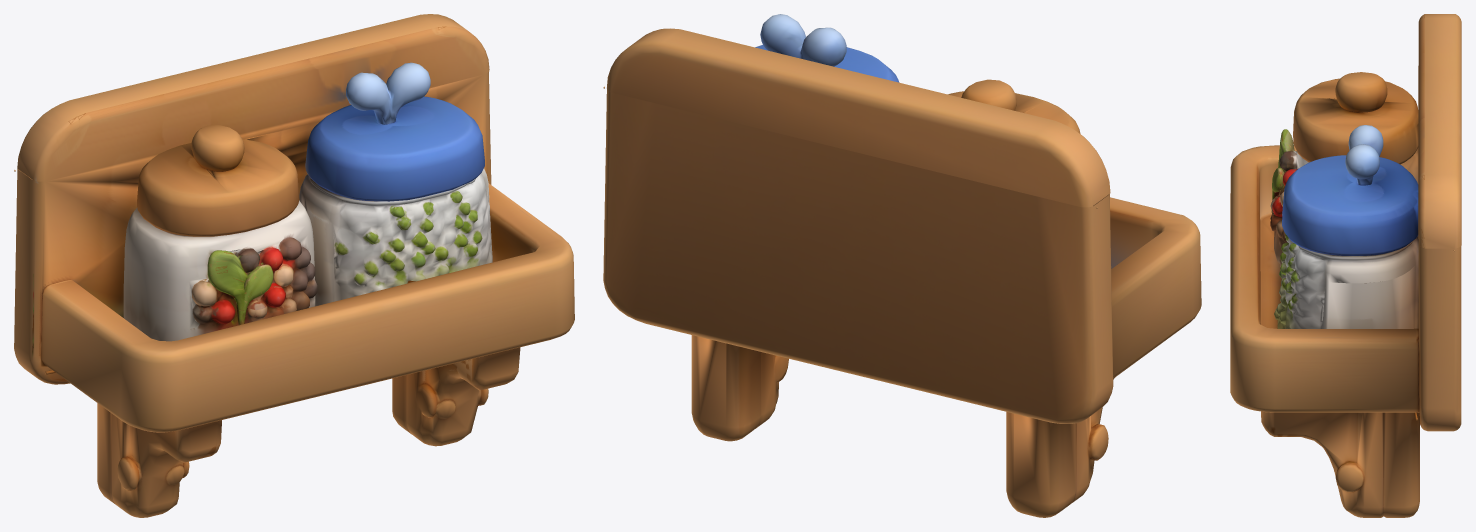
Rendered from wall-storage-box.glb.
The picture shows the model from 3 angles, left to right: view 1: azimuth 30°, elevation 25°; view 2: azimuth 150°, elevation 25°; view 3: azimuth 270°, elevation 25°; orthographic projection. The views are drawn at different scales.
Visible parts, largest first — view 1: wall_storage_box_mesh; view 2: wall_storage_box_mesh; view 3: wall_storage_box_mesh.
Part boxes in pixels (x1=…): wall_storage_box_mesh: x1=14, y1=14, x2=574, y2=517; wall_storage_box_mesh: x1=603, y1=14, x2=1201, y2=517; wall_storage_box_mesh: x1=1230, y1=14, x2=1461, y2=517.
Size of the model in its own units: 0.38 by 0.3015 by 0.1802.
1 material, 1 textured.
